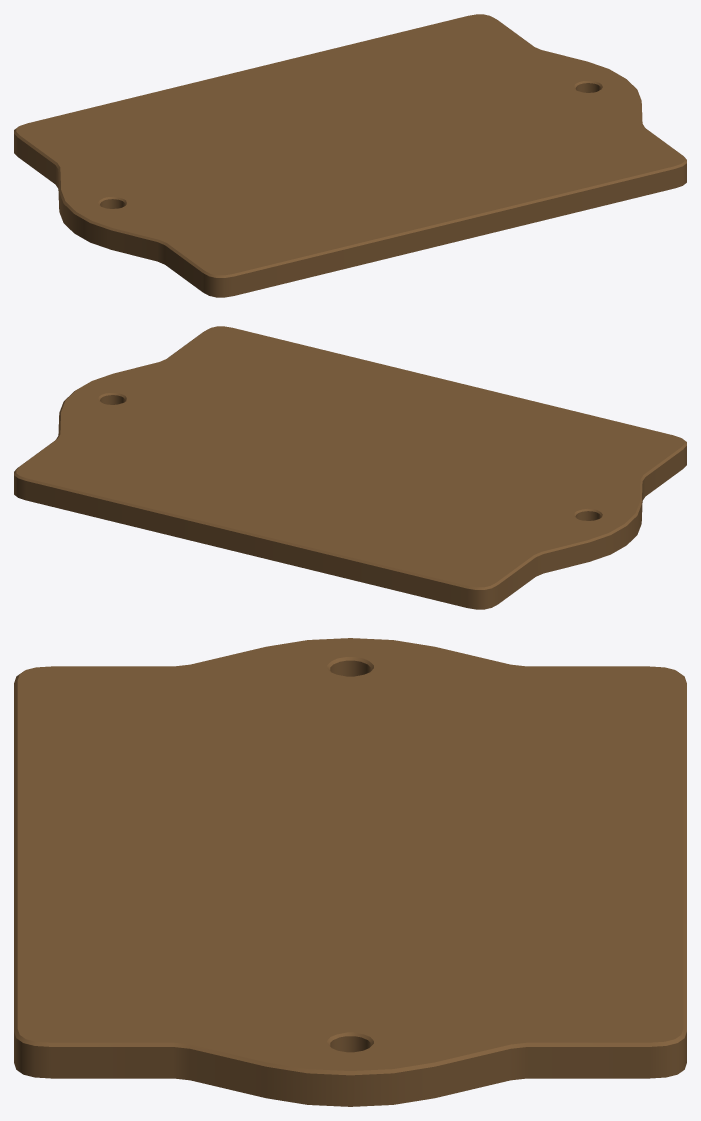
Rendered from board.FBX.
3 renders of one model, top to bottom at view 1: azimuth 30°, elevation 25°; view 2: azimuth 150°, elevation 25°; view 3: azimuth 270°, elevation 25°, orthographic. The views are drawn at different scales.
Parts seen in each view (by area): view 1: board; view 2: board; view 3: board.
Part boxes in pixels (left/top/right/bottom): board: left=14, top=14, right=686, bottom=297; board: left=14, top=326, right=686, bottom=609; board: left=14, top=638, right=686, bottom=1106.
Size of what is drawn, in the model's own units: 54.51 by 2 by 35.55.
